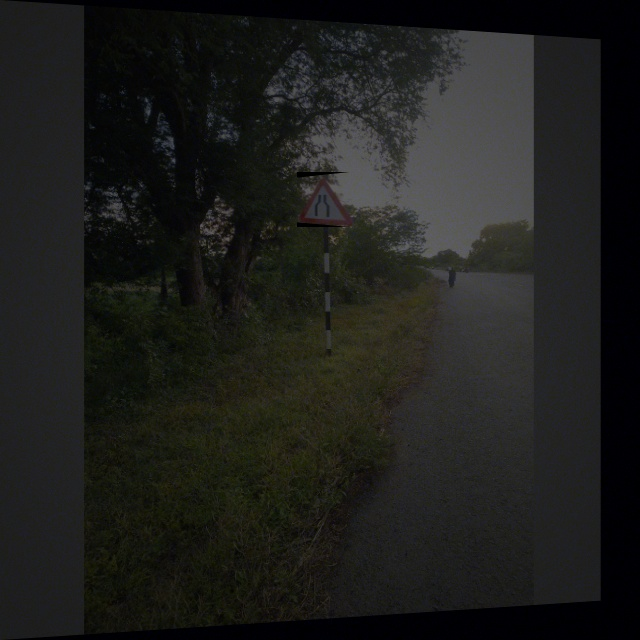Narrow_Road_Ahead: (297, 172, 350, 227)
